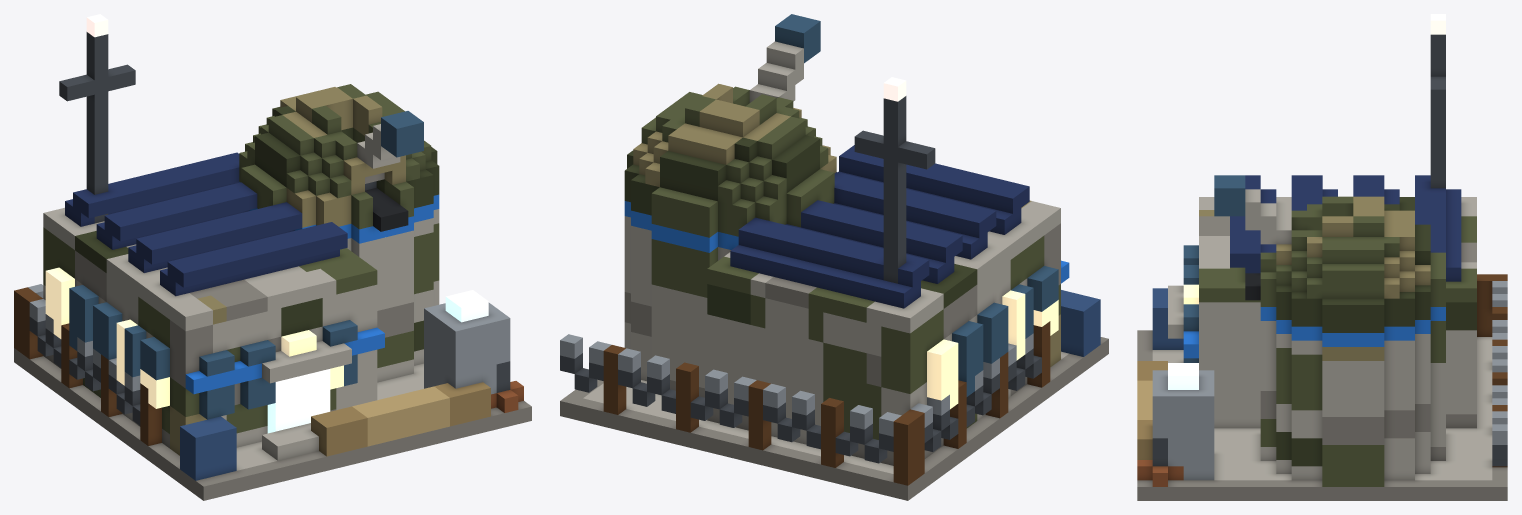
Rendered from cm_lab_1.glb.
The picture shows the model from 3 angles, left to right: view 1: azimuth 30°, elevation 25°; view 2: azimuth 150°, elevation 25°; view 3: azimuth 270°, elevation 25°; orthographic projection. The views are drawn at different scales.
Parts seen in each view (by area): view 1: cm_lab_1_body; view 2: cm_lab_1_body; view 3: cm_lab_1_body.
Boxes of the visible parts, box(x1,y1,x2,y2) form: cm_lab_1_body: box(14, 14, 531, 500); cm_lab_1_body: box(560, 14, 1108, 500); cm_lab_1_body: box(1137, 14, 1507, 500).
Size of the model in its own units: 1.5 by 1.56 by 1.5.
Materials: 1 (1 with a texture image).
